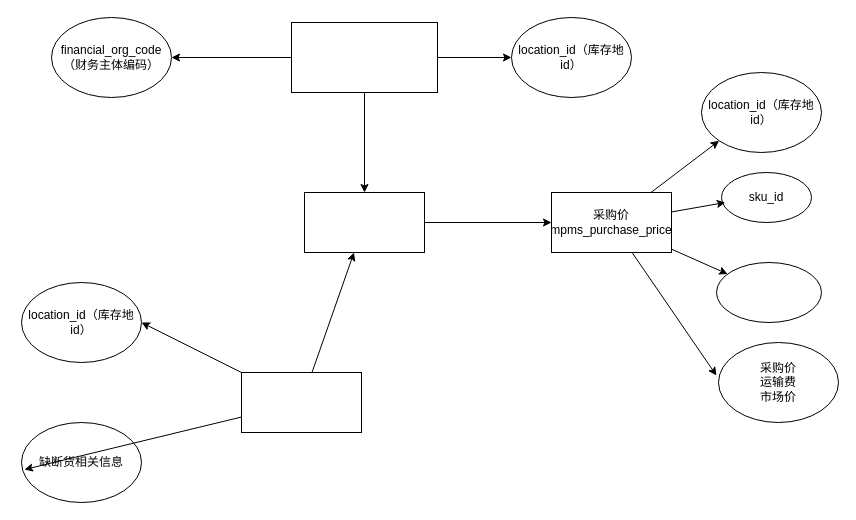
This 856x520 diagram has some shape labels left out. The centre of each missing label's shape, as x and y in pixels:
供应商编码vendor_code: [769,292]
库存地-财务主体mpms_company_location: [364,57]
库存地mpms_store_location: [364,222]
库存属性mpms_inventory: [301,402]
